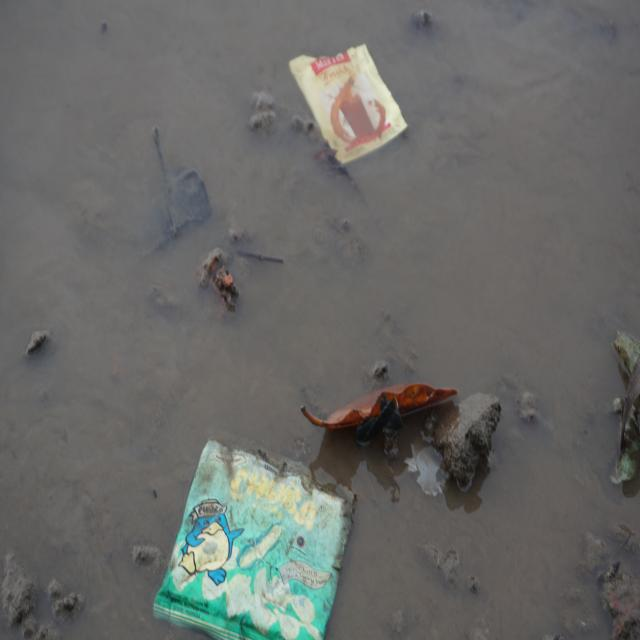Bungkus Makanan: (152, 433, 353, 640)
Bungkus Minuman: (290, 40, 408, 168)
